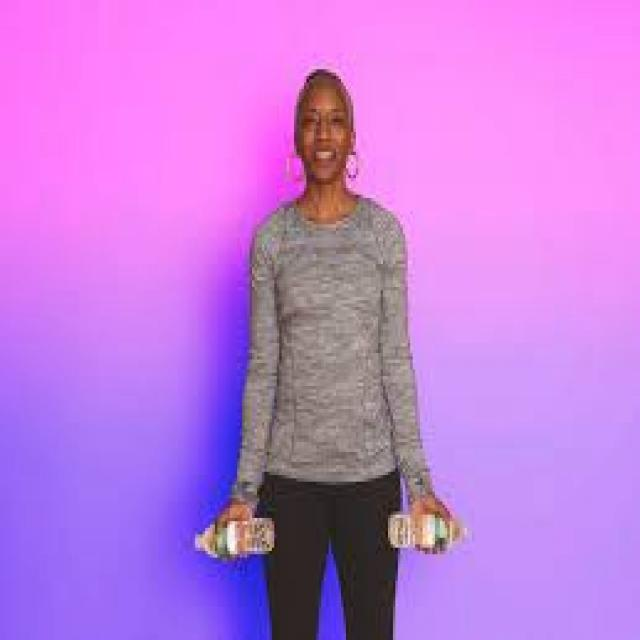adult: (183, 39, 474, 634)
